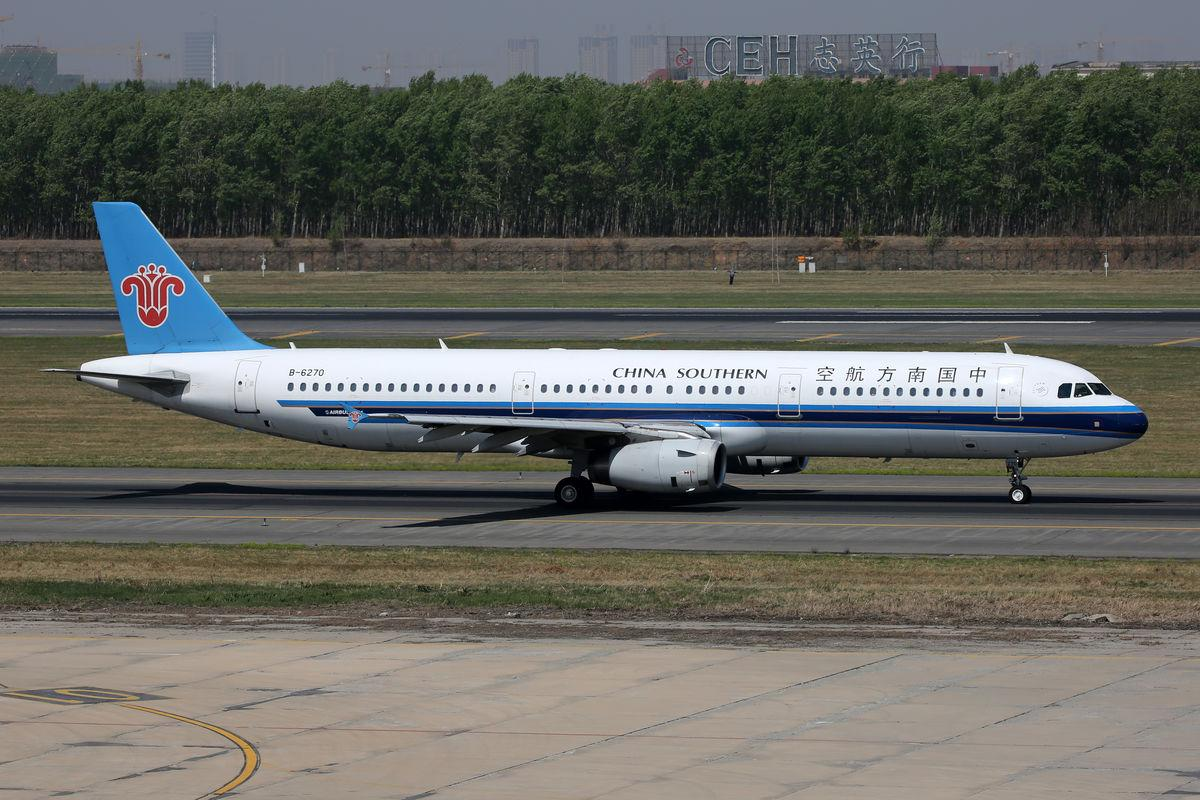airplane: (42, 198, 1152, 513)
